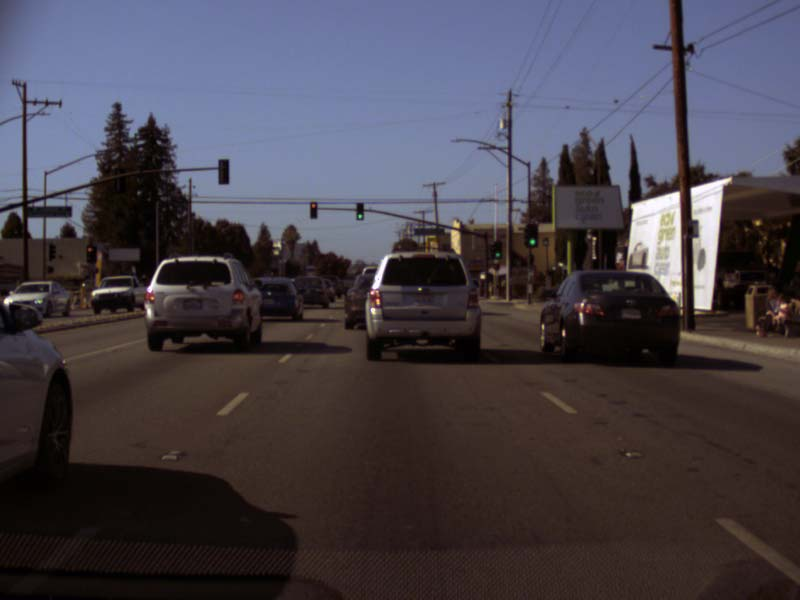Green: (527, 224, 538, 247), (355, 202, 364, 220), (493, 240, 501, 257)
Red: (86, 246, 95, 262), (310, 201, 317, 219)
